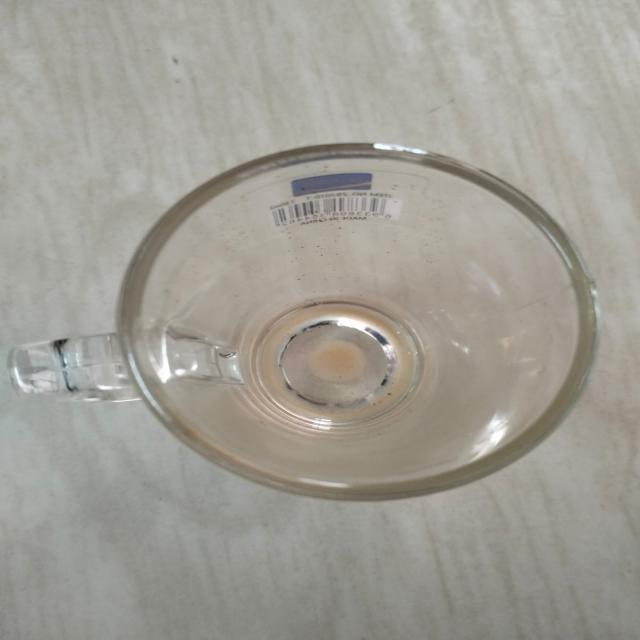glass-VX4N: (15, 139, 600, 505)
